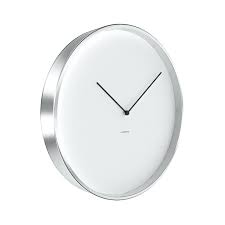clock: (42, 24, 183, 200)
